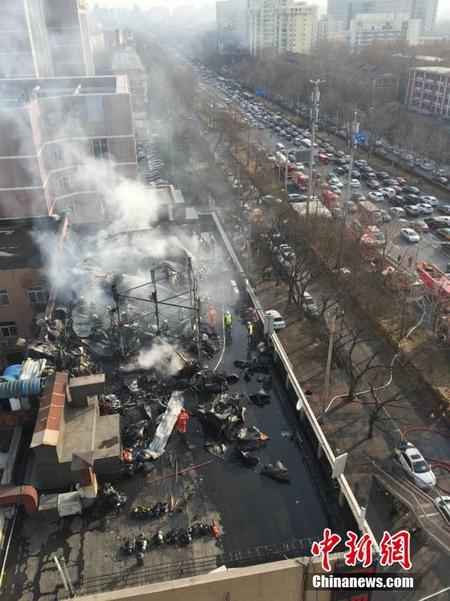smoke: (36, 138, 236, 329)
